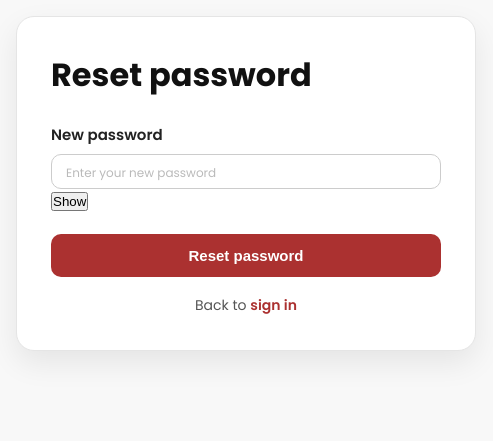
Test: ResetPasswordPage › shows error message if token is missing in URL search parameters
In the password field with placeholder "Enter your new password": (246, 172) [51,154,441,189], type "newSecret123"
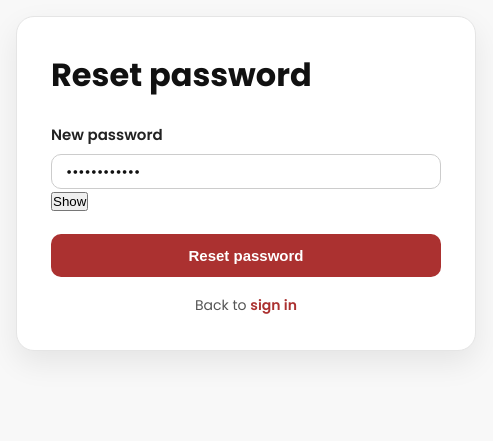
Click the button "Reset password": (246, 256) [51,234,441,277]
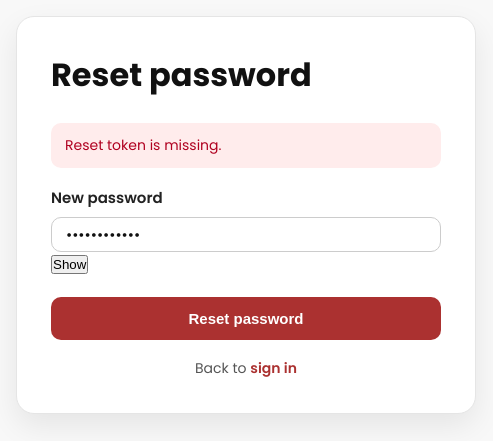
Result: the text "Reset token is missing." is shown at [51,123,441,168]
